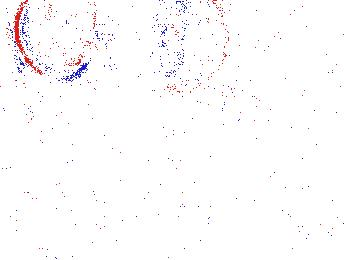moon jellyfish: (148, 1, 229, 93), (15, 1, 97, 81), (218, 86, 281, 174), (301, 68, 346, 149)
